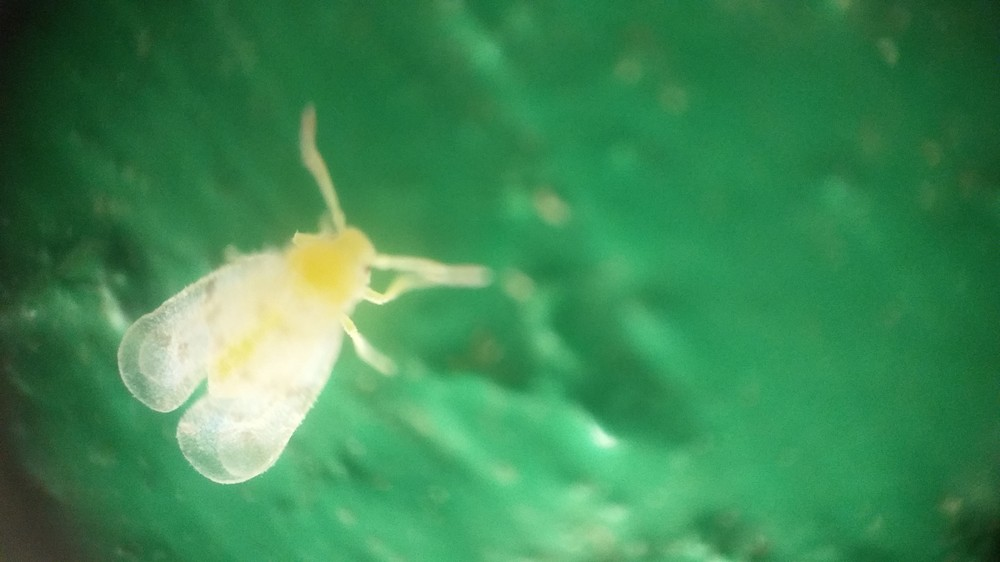Mosca Blanca: (100, 105, 502, 497)
